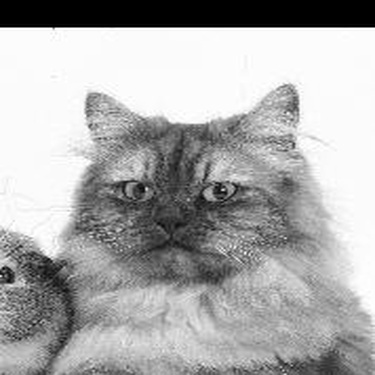cat: (45, 77, 370, 371), (4, 222, 75, 367)
